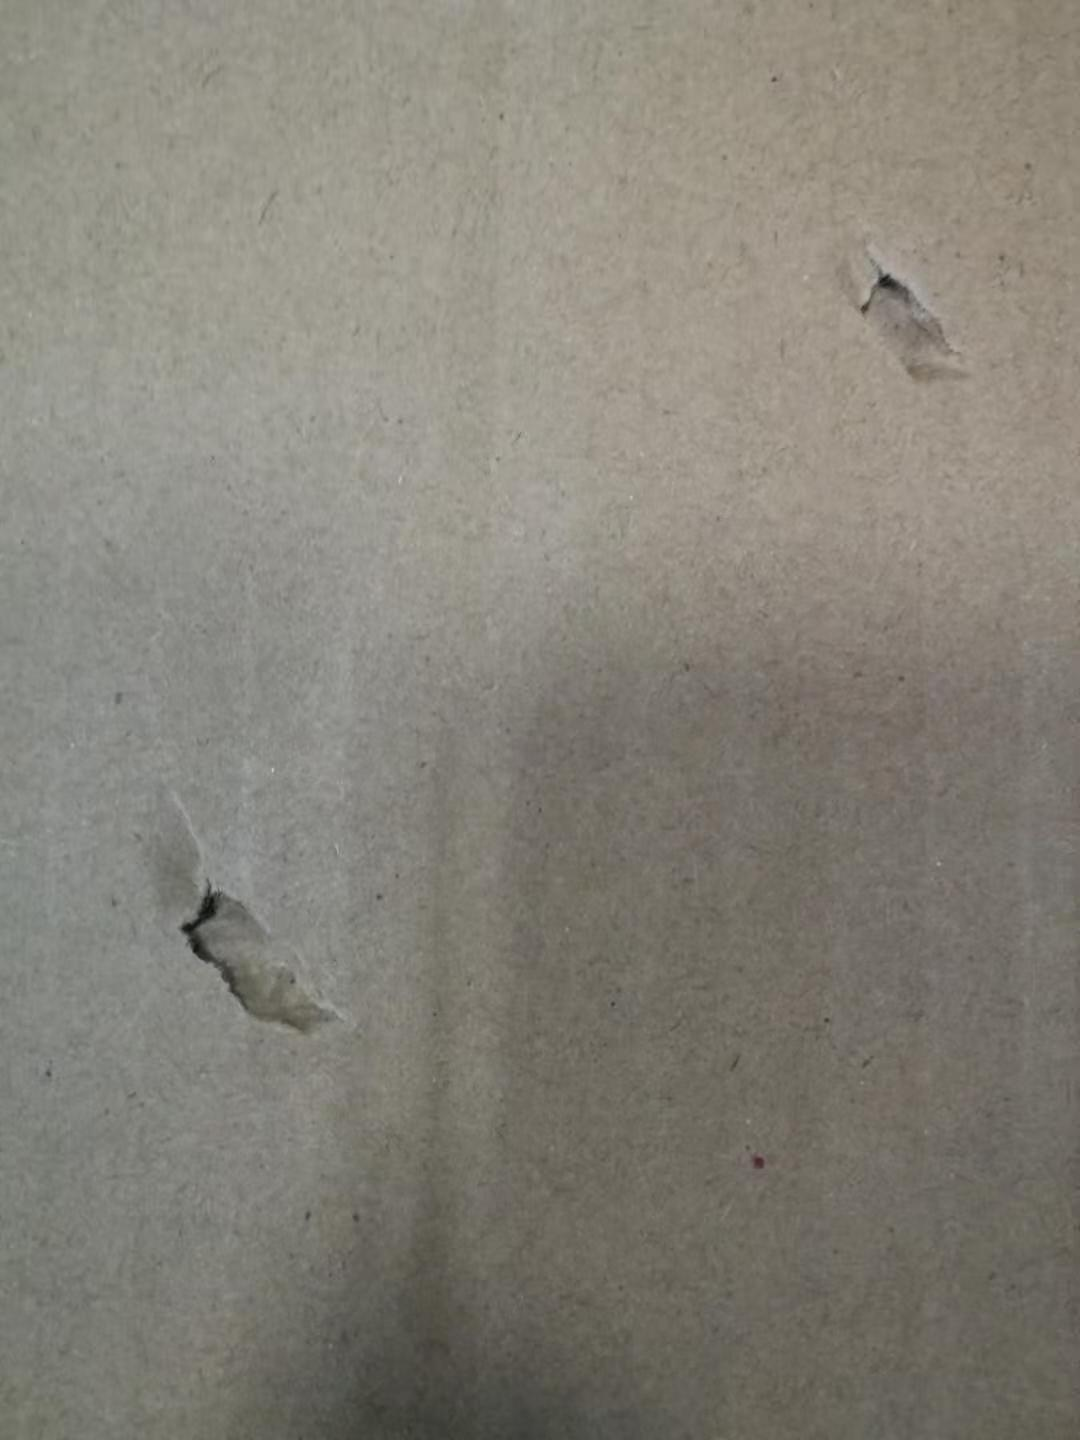defect: (109, 756, 385, 1104), (798, 205, 1002, 422)
